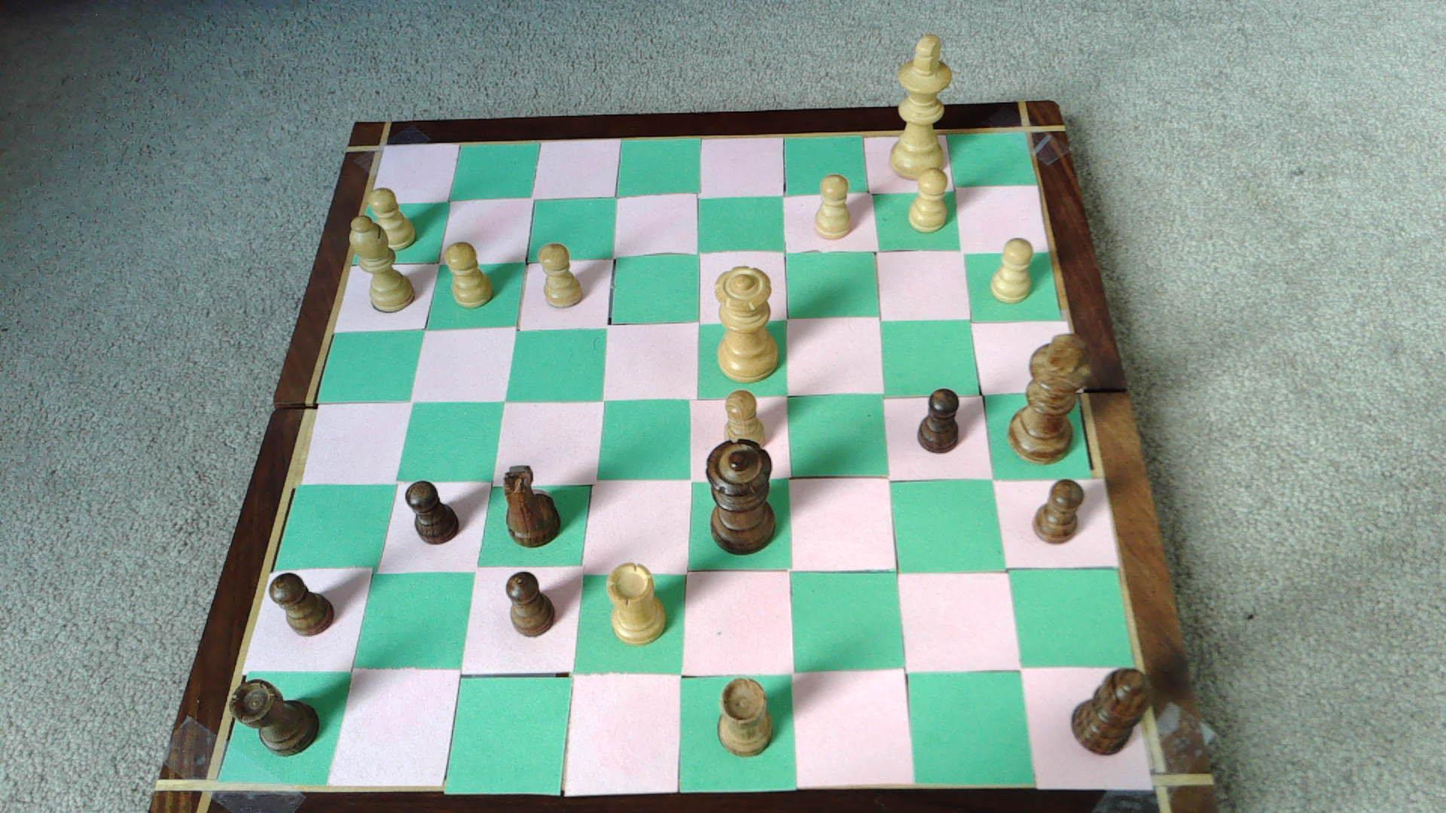dark_piece: (1008, 333, 1089, 462), (707, 440, 775, 553), (231, 680, 319, 754), (1071, 668, 1147, 753), (503, 465, 560, 547), (718, 676, 772, 755), (269, 573, 333, 635), (406, 481, 459, 543), (1032, 480, 1083, 542), (506, 572, 555, 636), (918, 389, 959, 452)
white_piece: (889, 33, 953, 180), (715, 266, 778, 380), (349, 214, 416, 312), (607, 562, 666, 644), (444, 242, 493, 307), (365, 188, 416, 250), (539, 243, 584, 308), (990, 237, 1033, 303), (908, 169, 949, 232), (725, 390, 767, 449), (815, 175, 853, 240)
